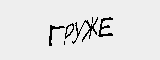Г: (45, 24, 64, 49)
Е: (99, 15, 115, 39)
Ж: (84, 17, 98, 43)
Р: (62, 21, 74, 52)
У: (72, 19, 84, 48)
